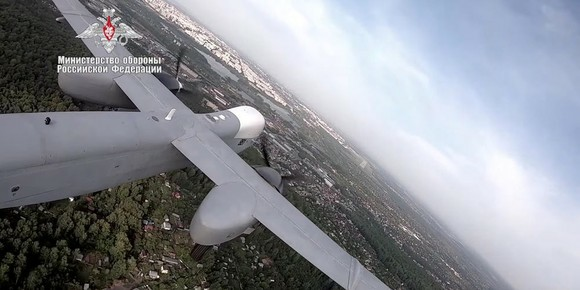maybay_khongnguoilai: (4, 4, 386, 290)
